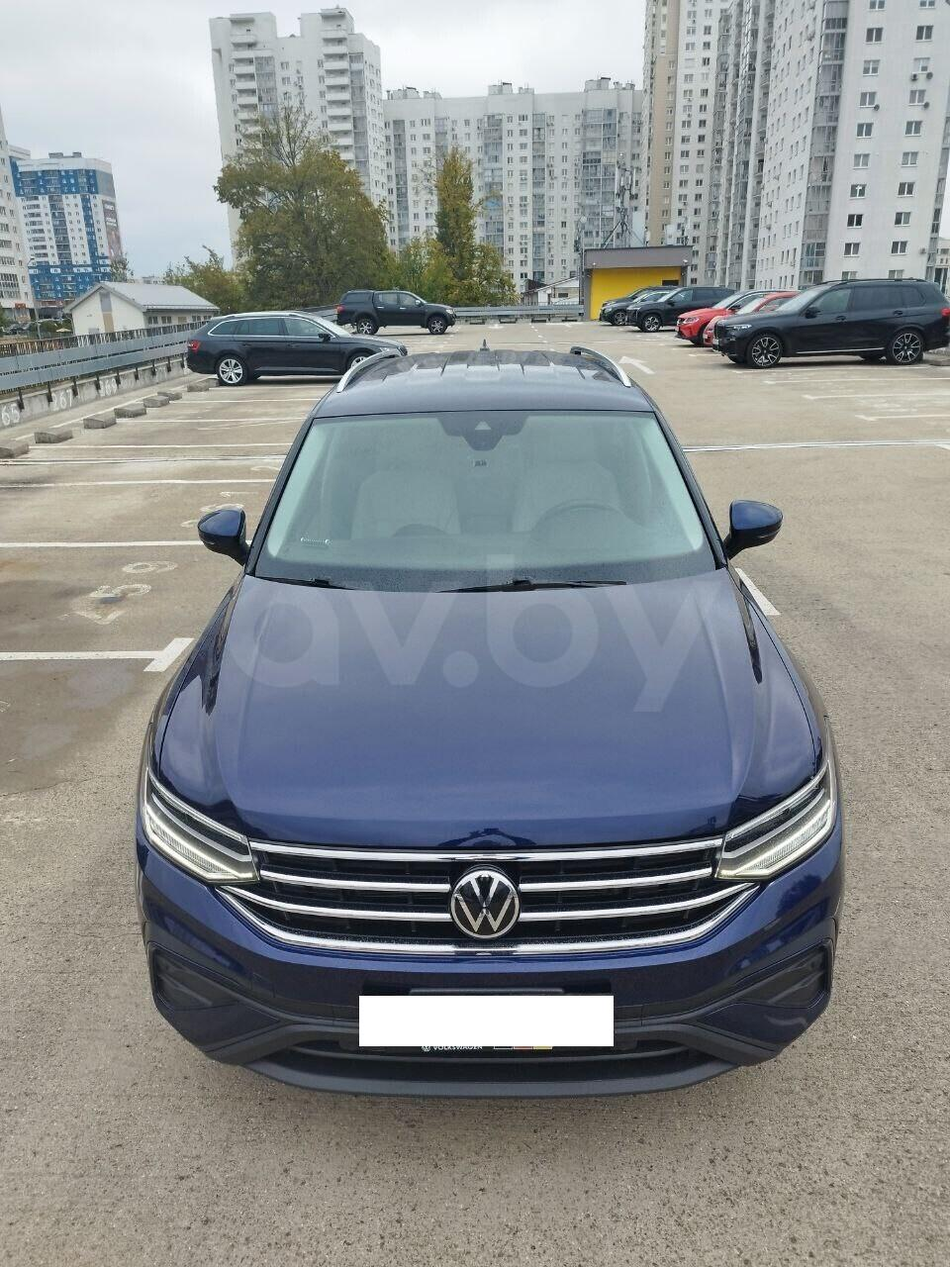Tiguan_2020-2024: (135, 346, 844, 1092)
